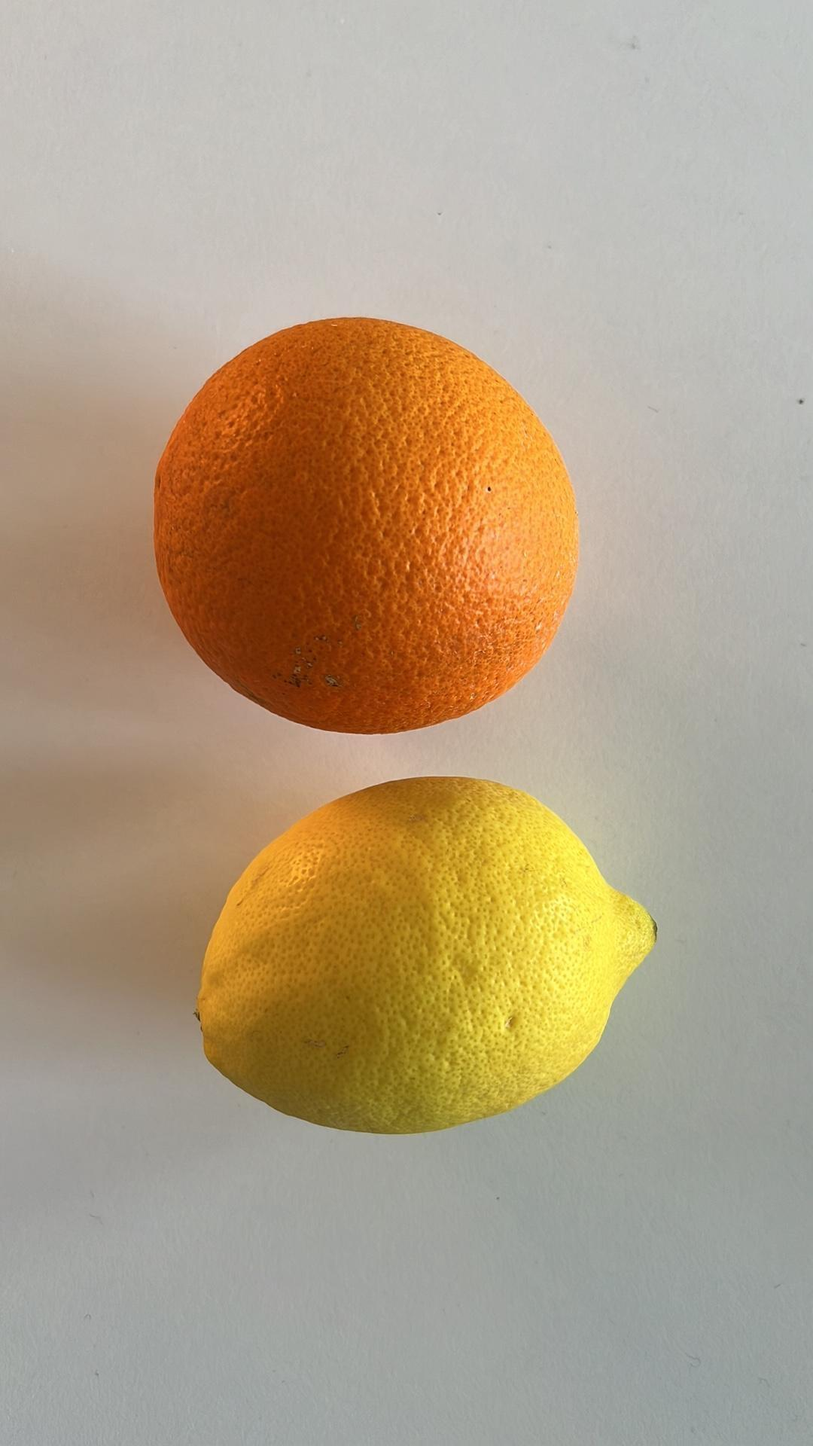lemon: (192, 776, 659, 1141)
orange: (151, 314, 586, 736)
